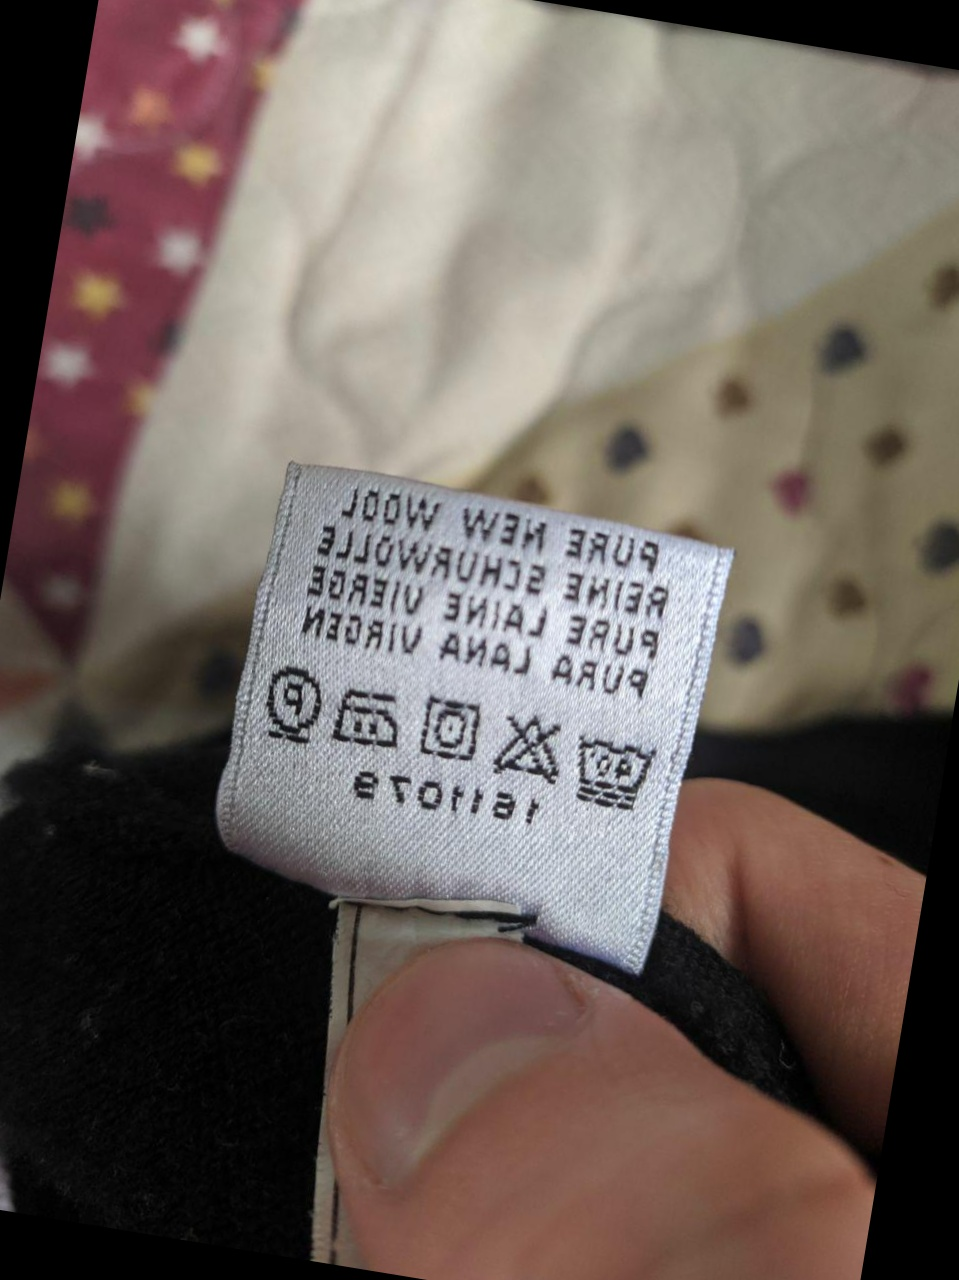40C: (562, 723, 662, 817)
DN_bleach: (483, 705, 570, 784)
dry_clean_any_solvent_except_trichloroethylene: (252, 661, 330, 750)
iron_medium: (326, 683, 411, 756)
tumble_dry_low: (412, 689, 488, 764)
